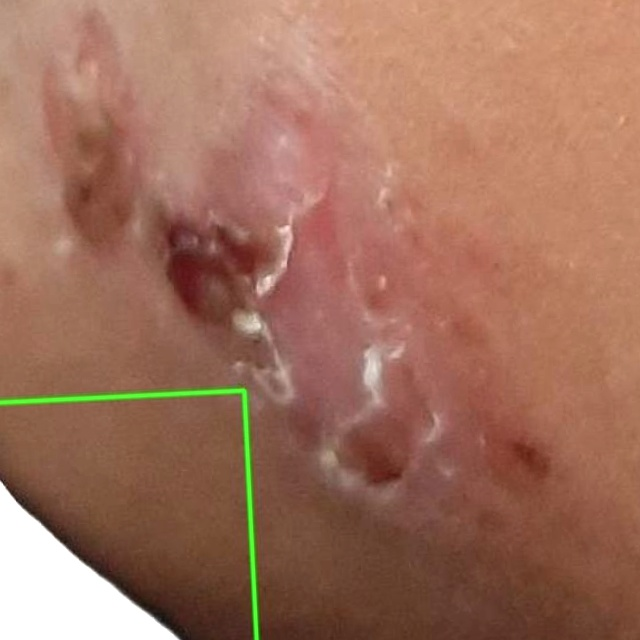Contact Dermatitis: (0, 390, 256, 639)
